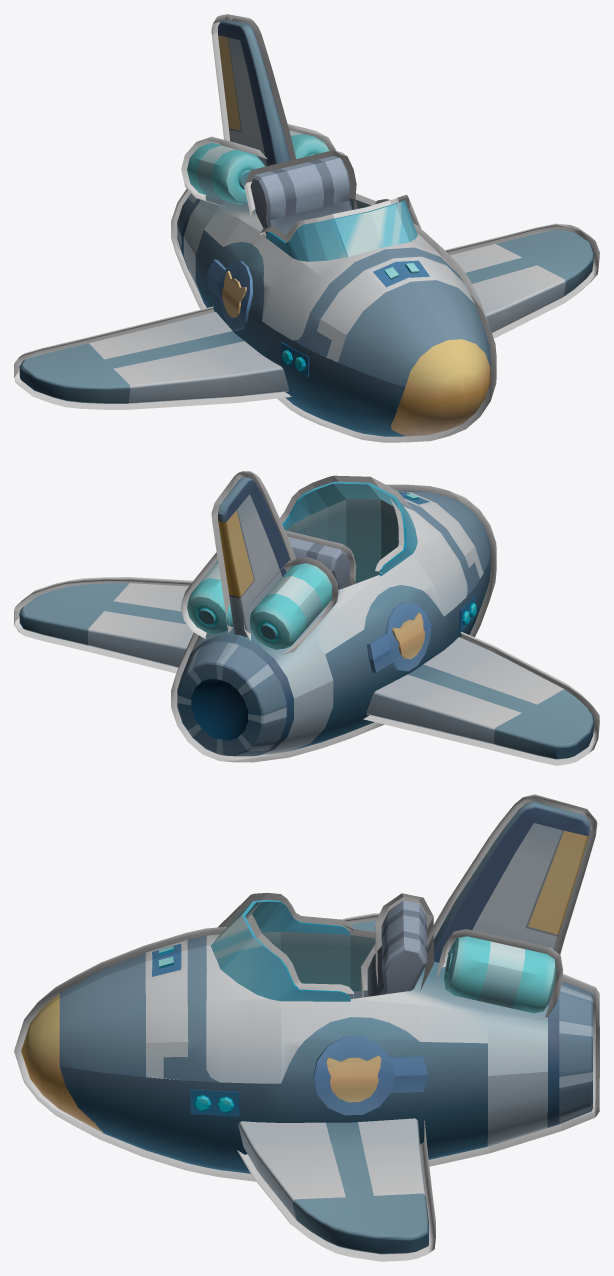
Rendered from pickup_airplaneCrazyPlanet_outline_MESH.glb.
3 views of the same model, one above another, from view 1: azimuth 30°, elevation 25°; view 2: azimuth 150°, elevation 25°; view 3: azimuth 270°, elevation 25° (orthographic). The views are drawn at different scales.
Visible parts, largest first — view 1: pickup_airplaneCrazyPlanet_outline; view 2: pickup_airplaneCrazyPlanet_outline; view 3: pickup_airplaneCrazyPlanet_outline.
Boxes of the visible parts, x1,y1,x2,y2 form: pickup_airplaneCrazyPlanet_outline: [14, 14, 599, 442]; pickup_airplaneCrazyPlanet_outline: [14, 471, 599, 765]; pickup_airplaneCrazyPlanet_outline: [14, 794, 599, 1261].
Bounding box in the file's own units: 1.07 × 0.5765 × 0.8182.
